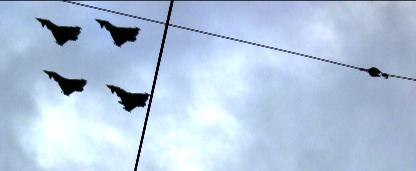E2: (35, 16, 82, 45), (94, 18, 140, 46), (105, 84, 150, 111), (42, 70, 88, 95)
